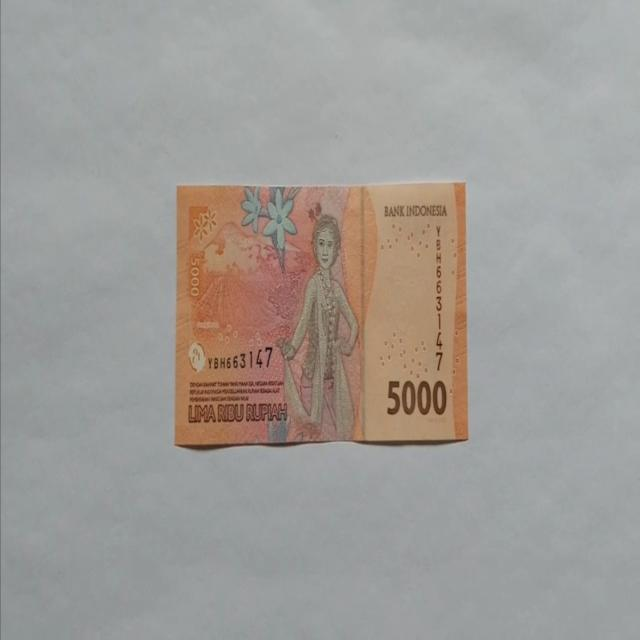lima ribu rupiah: (174, 180, 468, 448), (276, 213, 360, 442)
